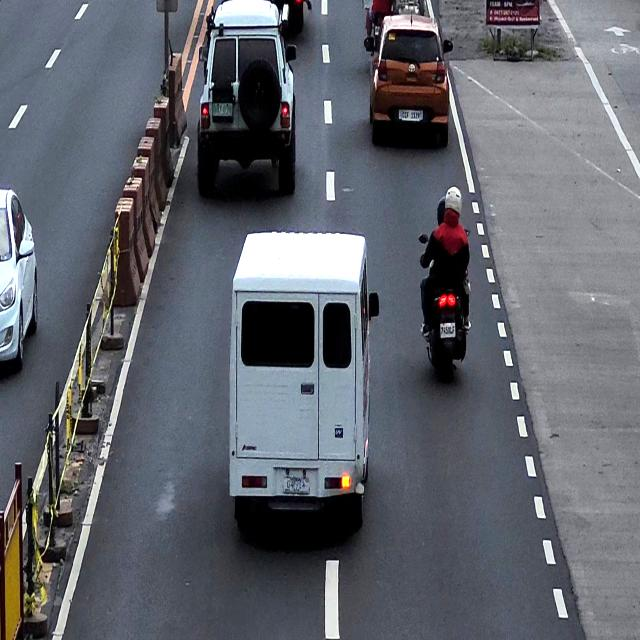Car: (228, 230, 379, 528), (197, 0, 297, 195), (364, 12, 453, 147), (0, 188, 38, 368)
License-Plate: (282, 475, 310, 495), (400, 107, 423, 123), (212, 102, 234, 117), (439, 321, 457, 339)
Motorcycle: (418, 231, 471, 378)
Tricycle: (363, 0, 426, 56)
